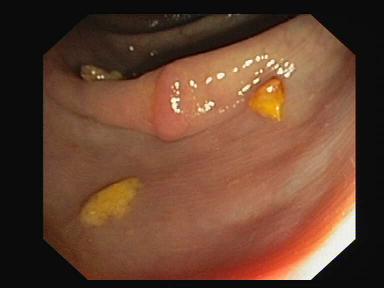polyp: (59, 156, 179, 239), (142, 65, 216, 142), (240, 67, 298, 133)
